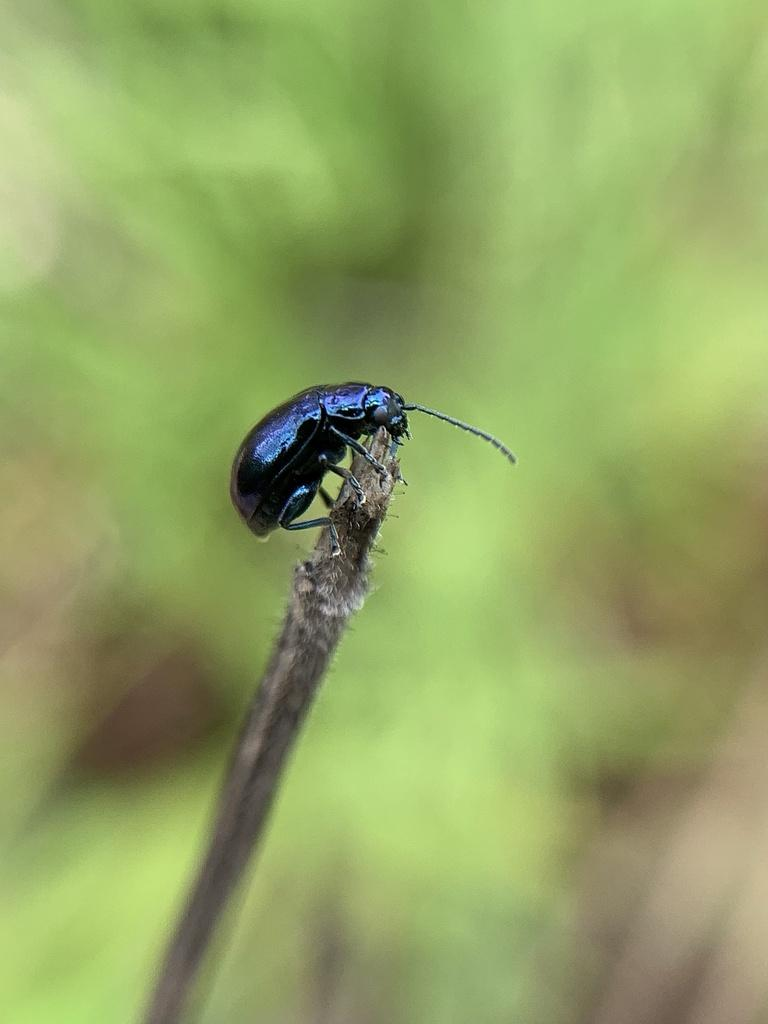flea_beetle: (194, 332, 527, 582)
